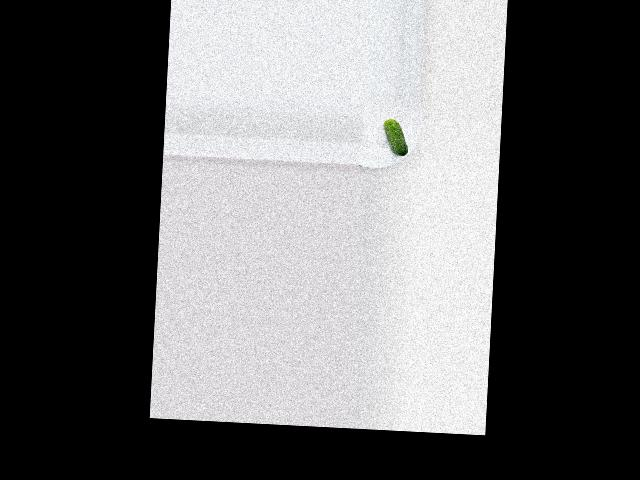cucumber: (382, 118, 409, 155)
